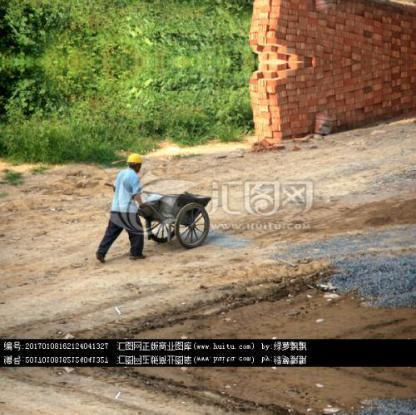helmet: (121, 147, 146, 168)
